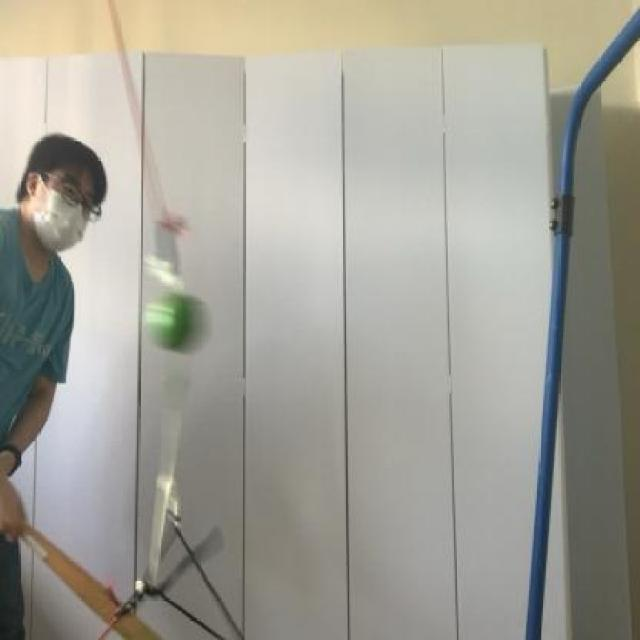baseball: (131, 280, 224, 369)
